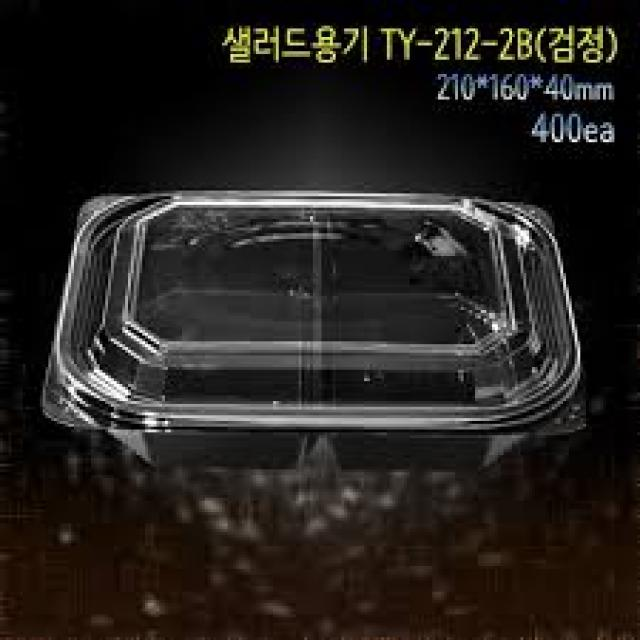disposable: (43, 180, 599, 488)
